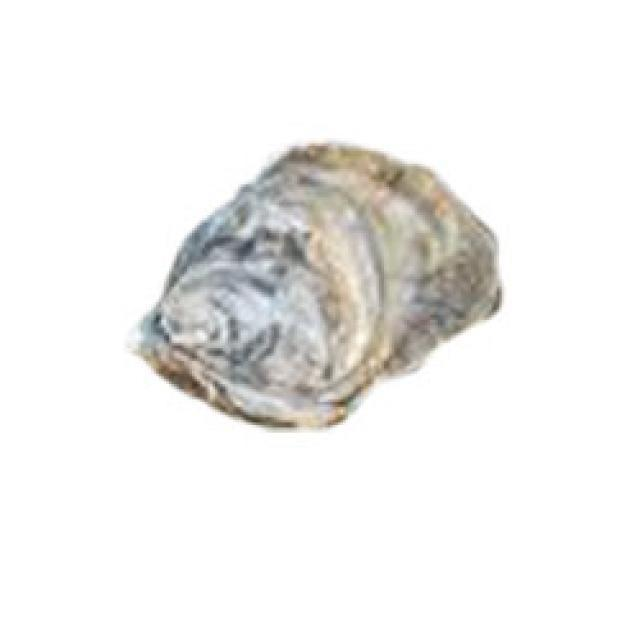Oyster- Indeterminate: (122, 142, 504, 433)
